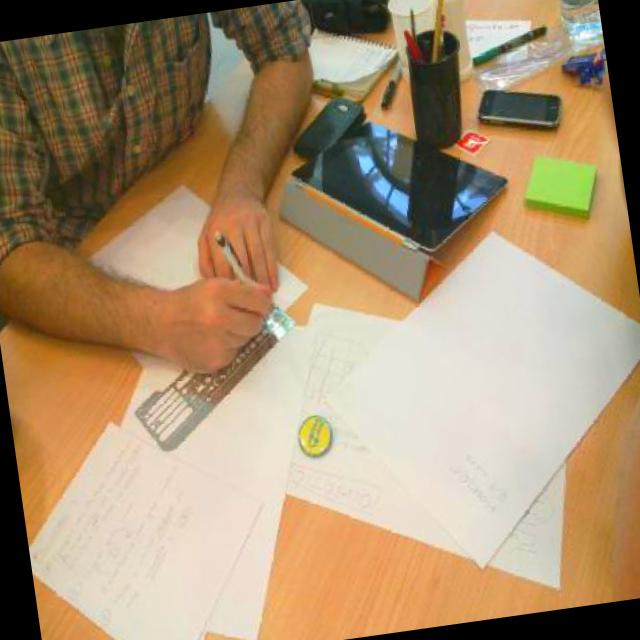Person: (0, 0, 357, 402)
